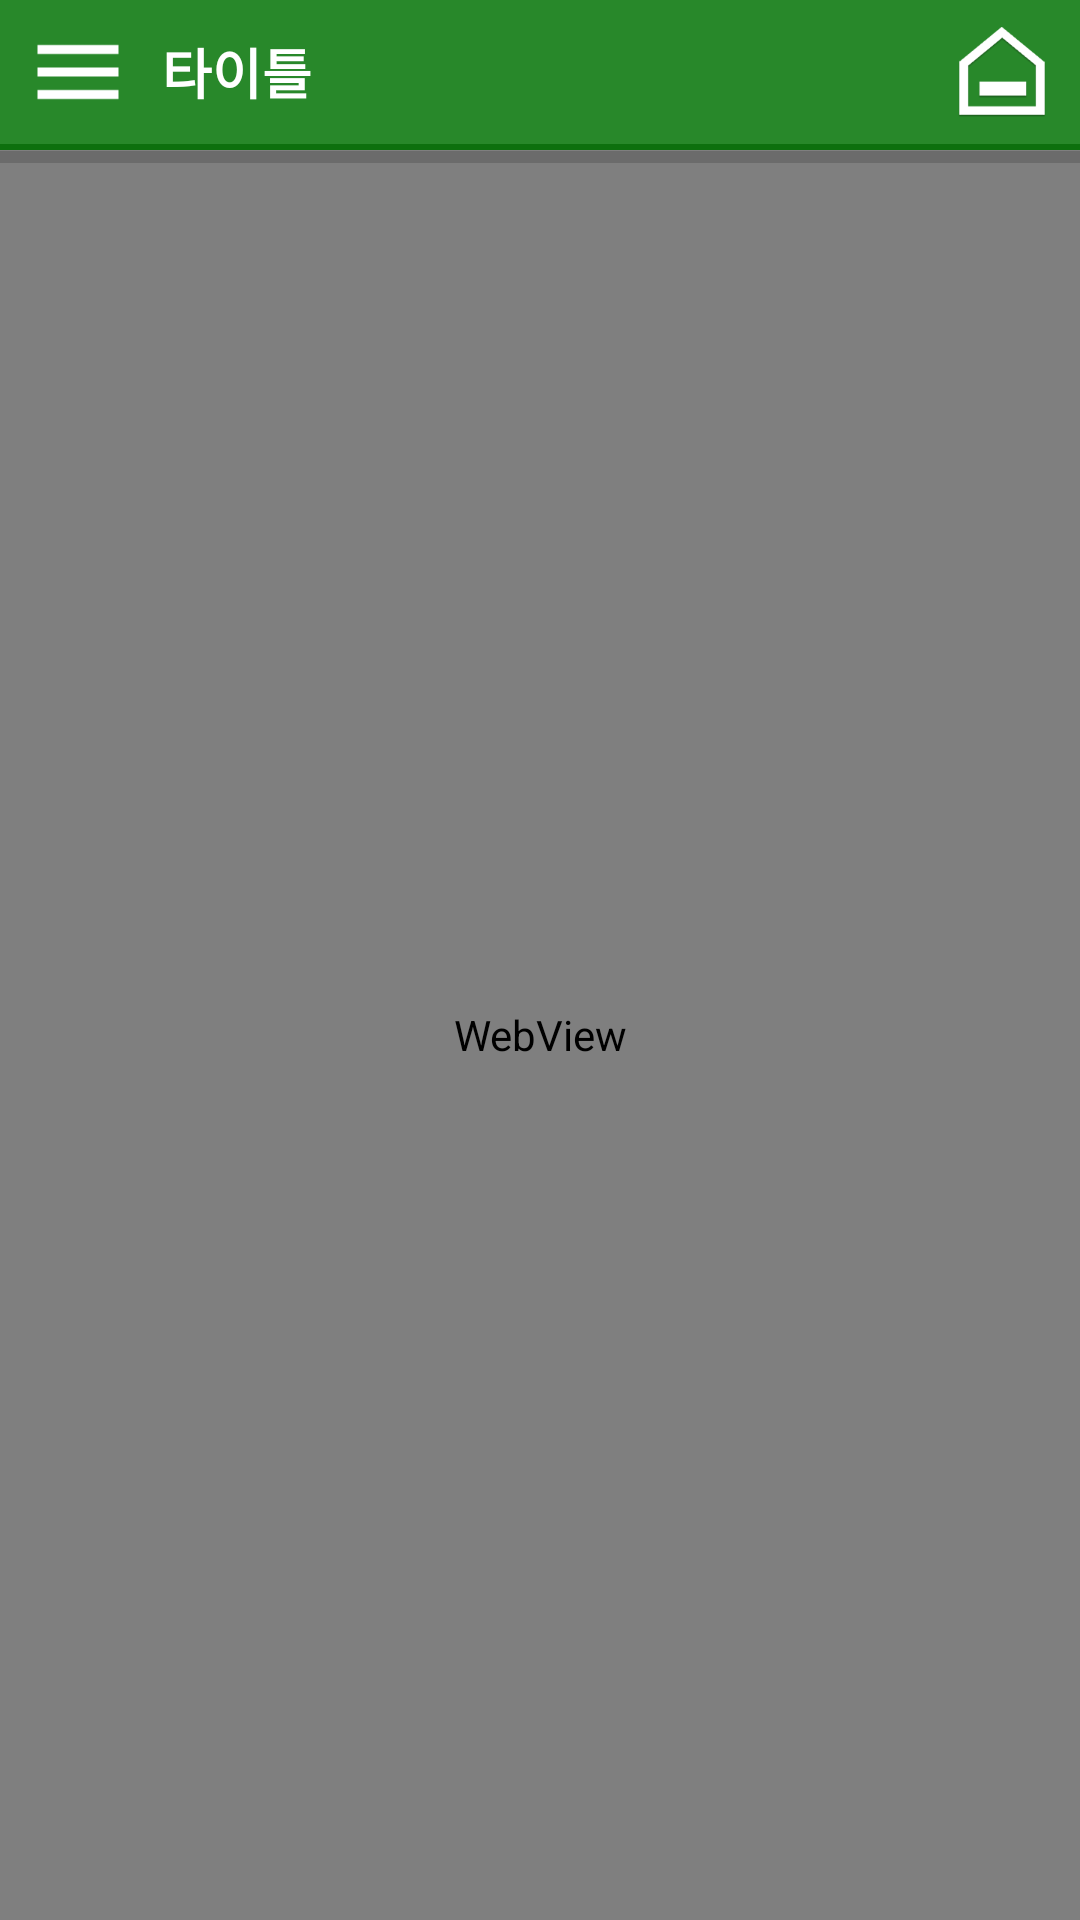

Icons on this 1080×1920 Android screen, each with its box as {"x1": x1, "y1": y1, "x2": x2, "y2": y2}:
menu: {"x1": 37, "y1": 44, "x2": 119, "y2": 100}
top home: {"x1": 959, "y1": 27, "x2": 1045, "y2": 116}
